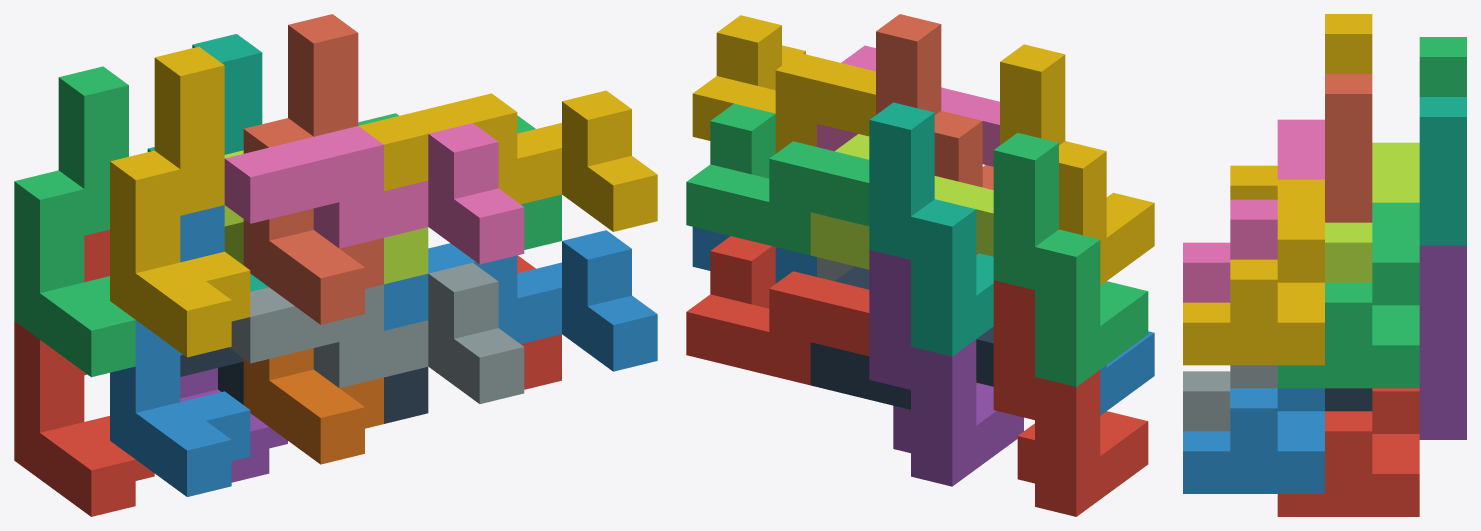
Rendered from tiling.obj.
3 renders of one model, left to right at view 1: azimuth 30°, elevation 25°; view 2: azimuth 150°, elevation 25°; view 3: azimuth 270°, elevation 25°, orthographic. The views are drawn at different scales.
Parts seen in each view (by area): view 1: copy_1_domain_4, copy_2_domain_4, copy_1_domain_3, copy_2_domain_2, copy_2_domain_8, copy_1_domain_8, copy_2_domain_6, copy_1_domain_2, copy_1_domain_1, copy_1_domain_6, copy_1_domain_7, copy_2_domain_1 (+4 smaller); view 2: copy_1_domain_3, copy_1_domain_7, copy_1_domain_1, copy_2_domain_7, copy_2_domain_5, copy_1_domain_5, copy_2_domain_8, copy_1_domain_4, copy_1_domain_8, copy_2_domain_3, copy_2_domain_1, copy_2_domain_4 (+3 smaller); view 3: copy_2_domain_8, copy_2_domain_7, copy_2_domain_6, copy_2_domain_5, copy_1_domain_5, copy_2_domain_4, copy_1_domain_7, copy_1_domain_8, copy_2_domain_3, copy_1_domain_4, copy_2_domain_2, copy_1_domain_3 (+1 smaller).
Part boxes in pixels (x1,y1,x2,y2): copy_1_domain_4: [110, 46, 250, 357]; copy_2_domain_4: [224, 123, 524, 264]; copy_1_domain_3: [14, 66, 135, 377]; copy_2_domain_2: [229, 262, 524, 403]; copy_2_domain_8: [359, 90, 657, 231]; copy_1_domain_8: [243, 14, 383, 324]; copy_2_domain_6: [384, 230, 657, 371]; copy_1_domain_2: [110, 205, 250, 496]; copy_1_domain_1: [14, 229, 154, 516]; copy_1_domain_6: [243, 348, 383, 464]; copy_1_domain_7: [147, 34, 268, 291]; copy_2_domain_1: [180, 347, 428, 423]; copy_1_domain_3: [993, 132, 1148, 386]; copy_1_domain_7: [869, 102, 993, 356]; copy_1_domain_1: [993, 280, 1148, 516]; copy_2_domain_7: [686, 103, 869, 255]; copy_2_domain_5: [686, 236, 869, 385]; copy_1_domain_5: [869, 250, 1023, 486]; copy_2_domain_8: [692, 15, 875, 153]; copy_1_domain_4: [1000, 44, 1154, 285]; copy_1_domain_8: [876, 14, 993, 254]; copy_2_domain_3: [810, 134, 993, 269]; copy_2_domain_1: [810, 266, 993, 409]; copy_2_domain_4: [817, 45, 999, 166]; copy_2_domain_8: [1183, 179, 1324, 365]; copy_2_domain_7: [1277, 202, 1419, 388]; copy_2_domain_6: [1183, 388, 1324, 493]; copy_2_domain_5: [1277, 388, 1419, 516]; copy_1_domain_5: [1419, 245, 1466, 439]; copy_2_domain_4: [1183, 119, 1324, 302]; copy_1_domain_7: [1419, 97, 1466, 245]; copy_1_domain_8: [1325, 74, 1372, 222]; copy_2_domain_3: [1325, 142, 1419, 282]; copy_1_domain_4: [1230, 14, 1372, 199]; copy_2_domain_2: [1183, 365, 1277, 431]; copy_1_domain_3: [1419, 37, 1466, 96].
Bounding box in the file's own units: 11 × 9 × 6.
